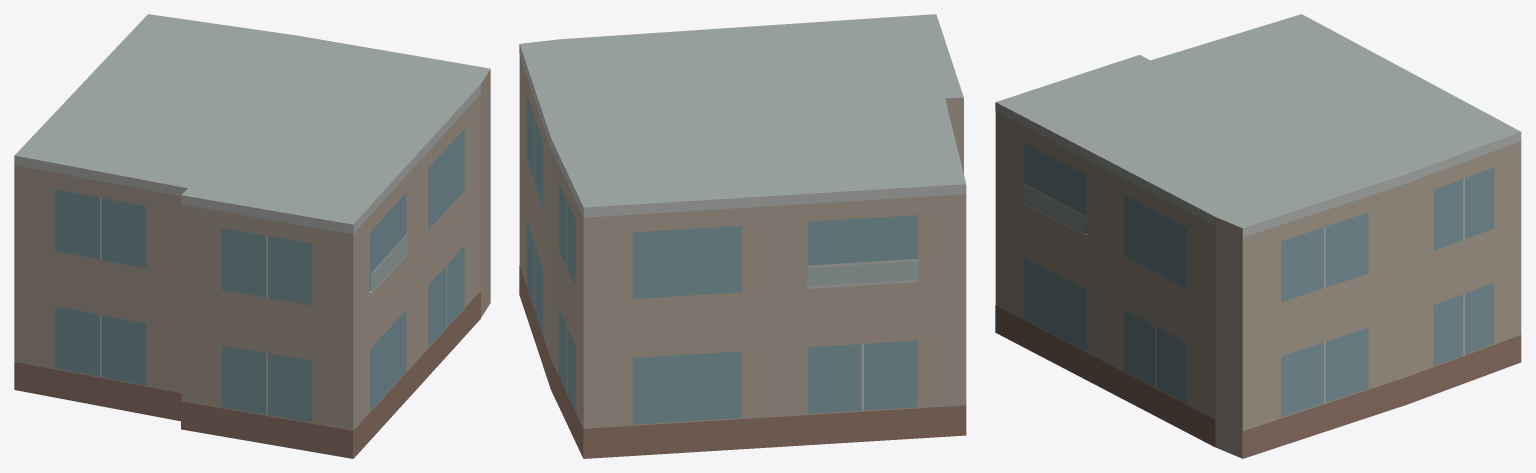
The model's file is survey-upis-32536341.glb.
The picture shows the model from 3 angles, left to right: view 1: azimuth 30°, elevation 25°; view 2: azimuth 150°, elevation 25°; view 3: azimuth 270°, elevation 25°; orthographic projection. The views are drawn at different scales.
Parts seen in each view (by area): view 1: survey-upis-32536341.tmp; view 2: survey-upis-32536341.tmp; view 3: survey-upis-32536341.tmp.
Boxes of the visible parts, bbox=[...] form: survey-upis-32536341.tmp: bbox=[14, 14, 490, 458]; survey-upis-32536341.tmp: bbox=[519, 14, 966, 458]; survey-upis-32536341.tmp: bbox=[995, 14, 1521, 458].
Bounding box in the file's own units: 12.18 × 6.1 × 12.62.
